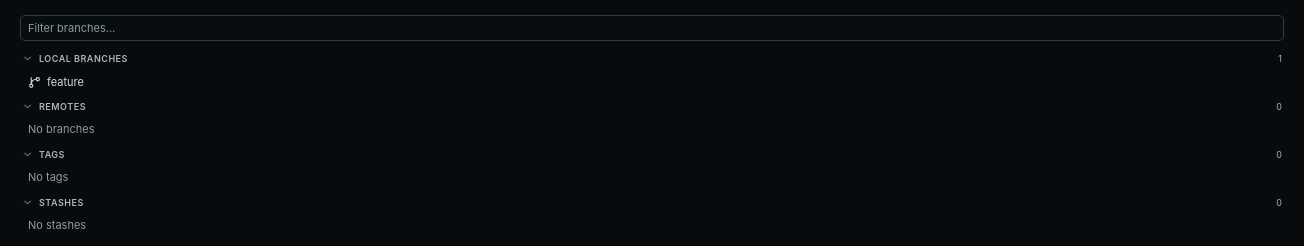
opens delete as the first context action without selecting the branch
Right-click the button "feature" at (65, 82), box [12,71,1292,93]
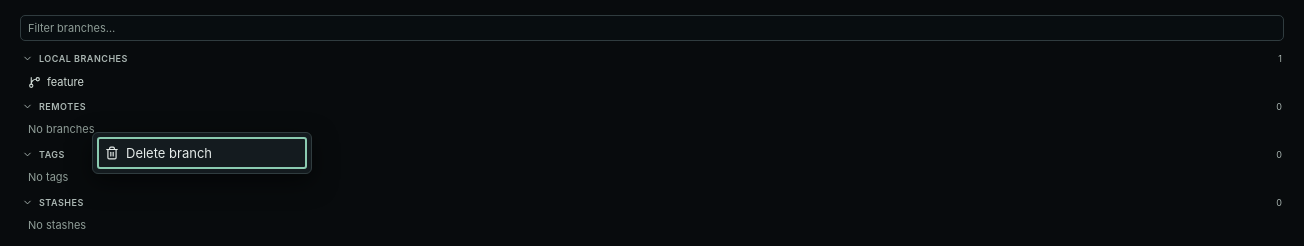
Result: the menu item reads "Delete branch" at [97,137,307,169]
Press Escape
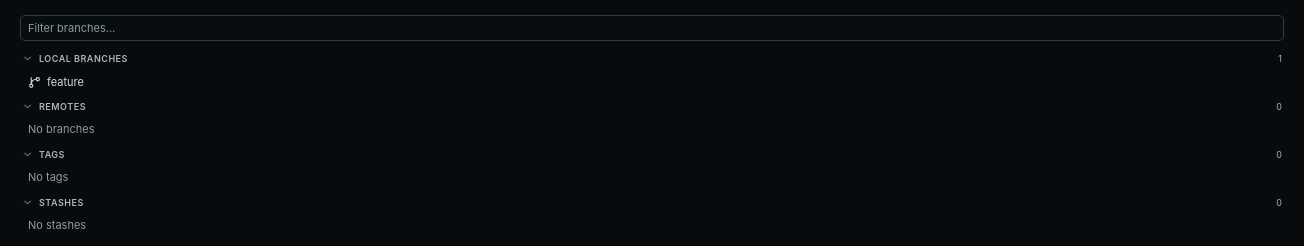
Result: the menu is gone
